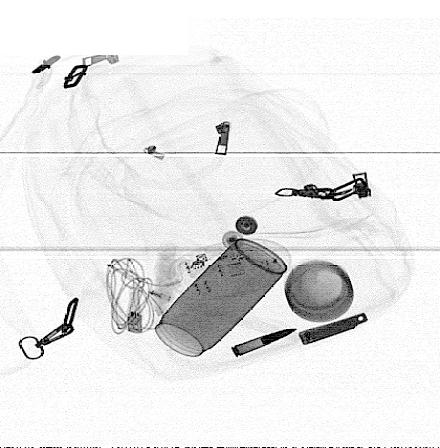Bullet: (228, 327, 301, 359)
